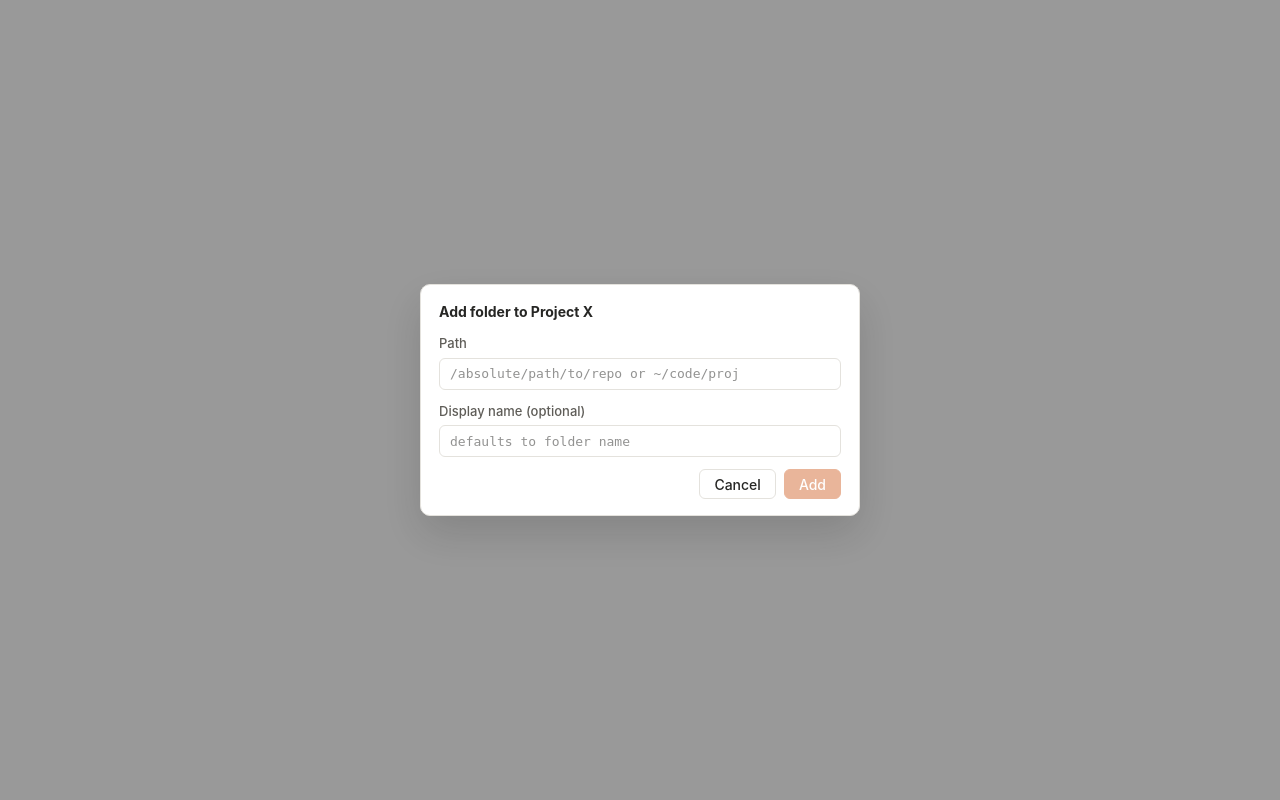
Test case: AddFolderDialog — validation › submitting a path that's already in the project shows 'already added'
Type "/Users/x/code/already-bound" into the field with placeholder "/absolute/path/to/repo or ~/code/proj" at {"x": 640, "y": 374}, box [439,358,841,390]
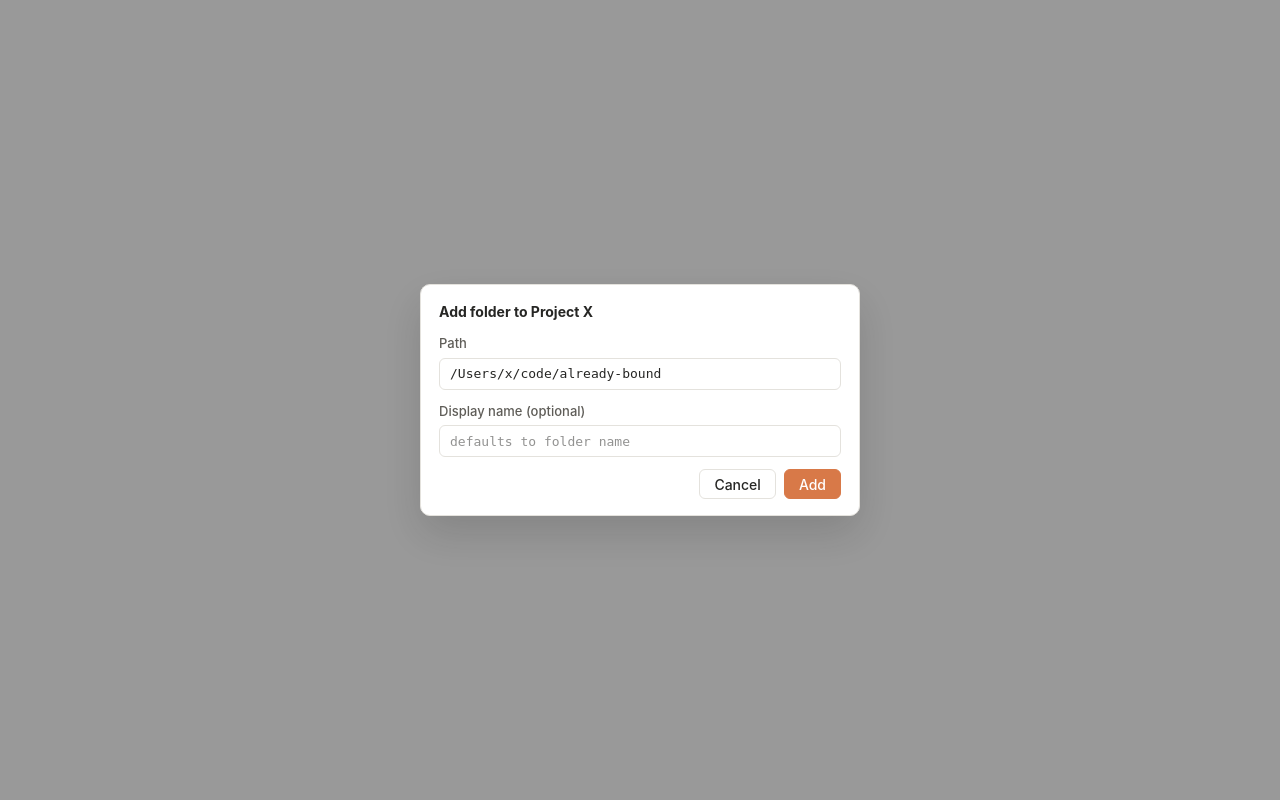
Click the button "Add" at {"x": 812, "y": 484}, box [784,469,841,499]
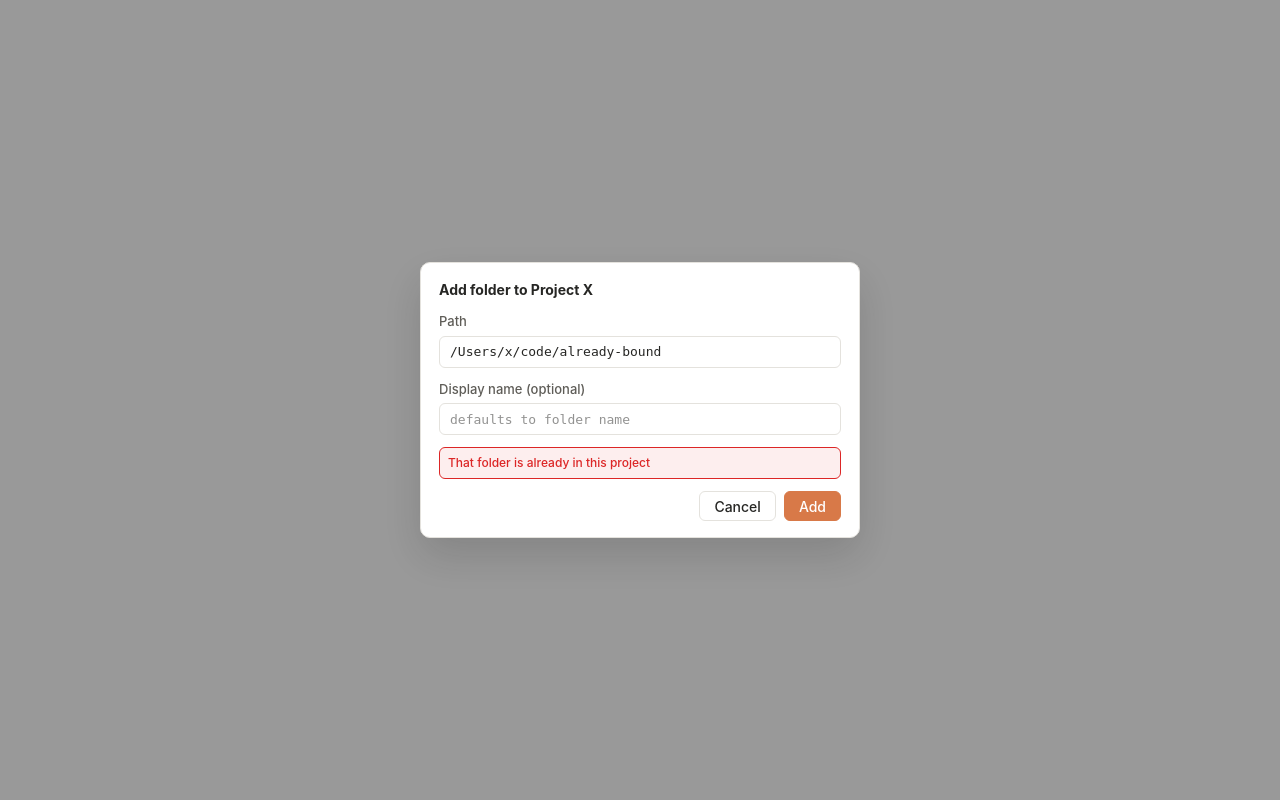
Expected: the text "That folder is already in this project" is shown, [439,447,841,479]
